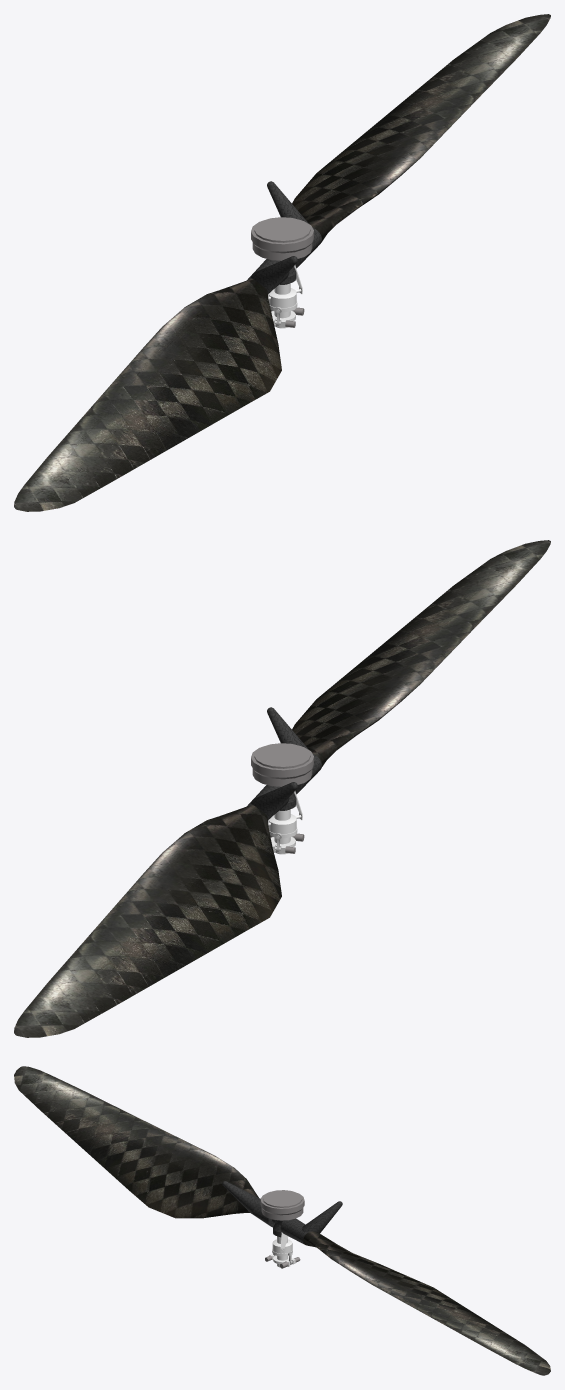
File: ingenuity_counterclockwise.glb
3 views of the same model, one above another, from view 1: azimuth 30°, elevation 25°; view 2: azimuth 210°, elevation 25°; view 3: azimuth 270°, elevation 25° (orthographic). The views are drawn at different scales.
Parts seen in each view (by area): view 1: rotors_02, parts_02; view 2: rotors_02, parts_02; view 3: rotors_02, parts_02.
Part boxes in pixels (x1,y1,x2,y2): rotors_02: (14, 14, 550, 511); parts_02: (268, 265, 304, 327); rotors_02: (14, 540, 550, 1037); parts_02: (268, 791, 304, 853); rotors_02: (14, 1066, 550, 1375); parts_02: (265, 1232, 300, 1268).
Size of the model in its own units: 0.9864 by 0.1101 by 0.7241.
5 materials, 2 textured.
